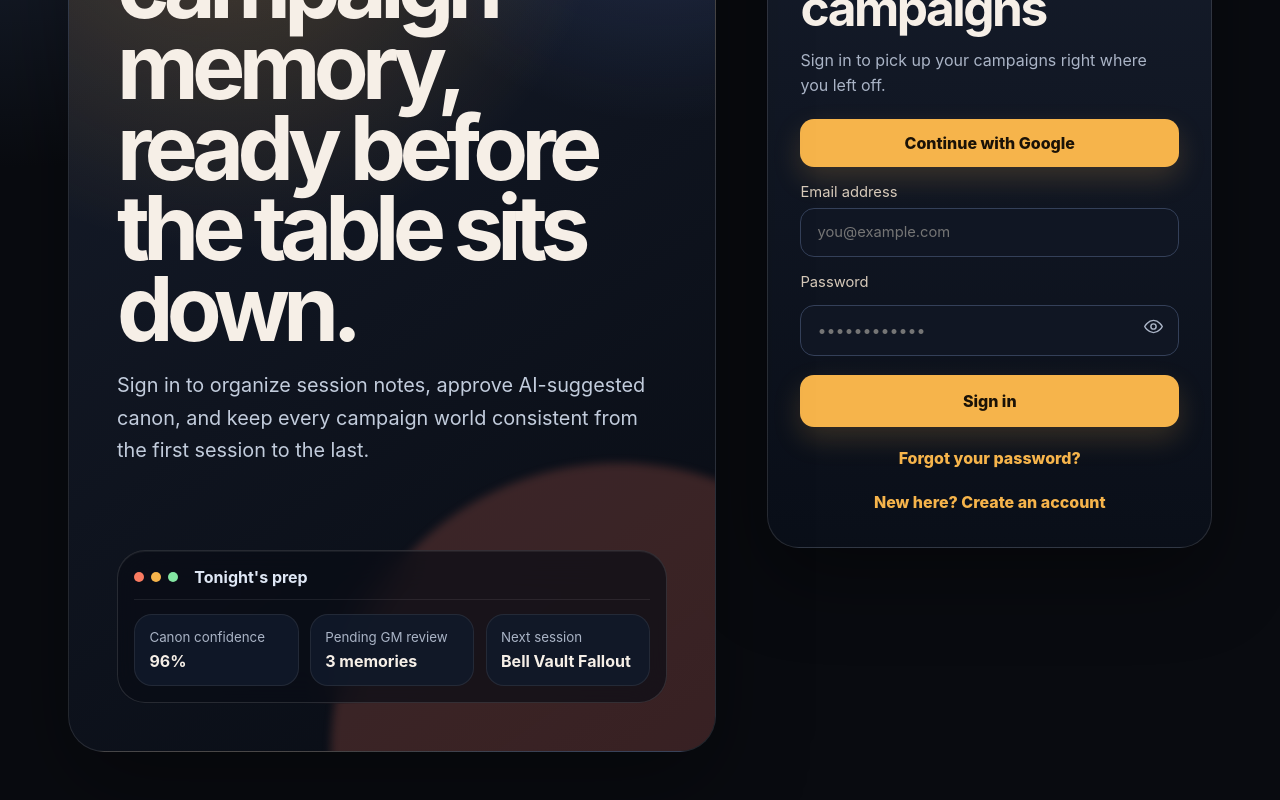
Test: requests managed password recovery without requiring a password
(page scrolled)
Click the button "Forgot your password?" at point(990, 458), box [899, 446, 1081, 471]
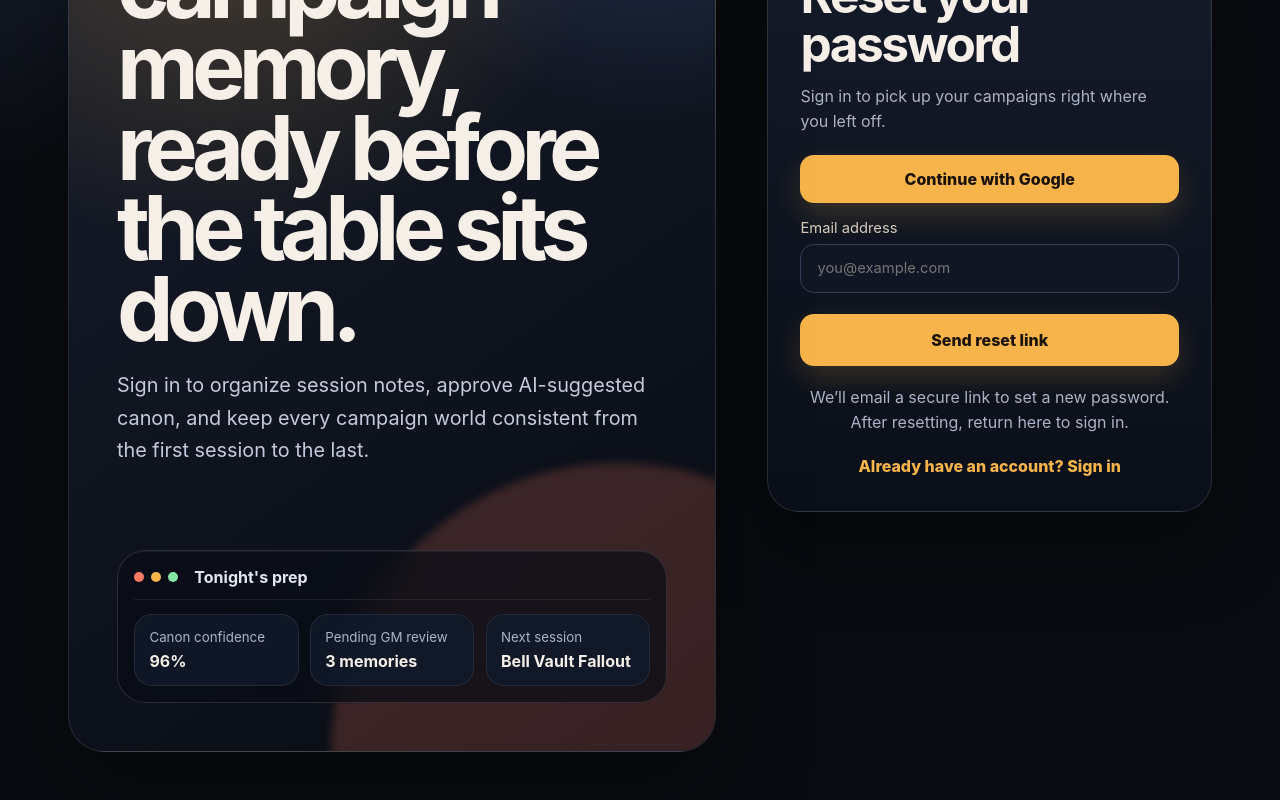
Type "gm@example.com" into the field labelled "Email address" at point(990, 268), box [800, 244, 1179, 293]
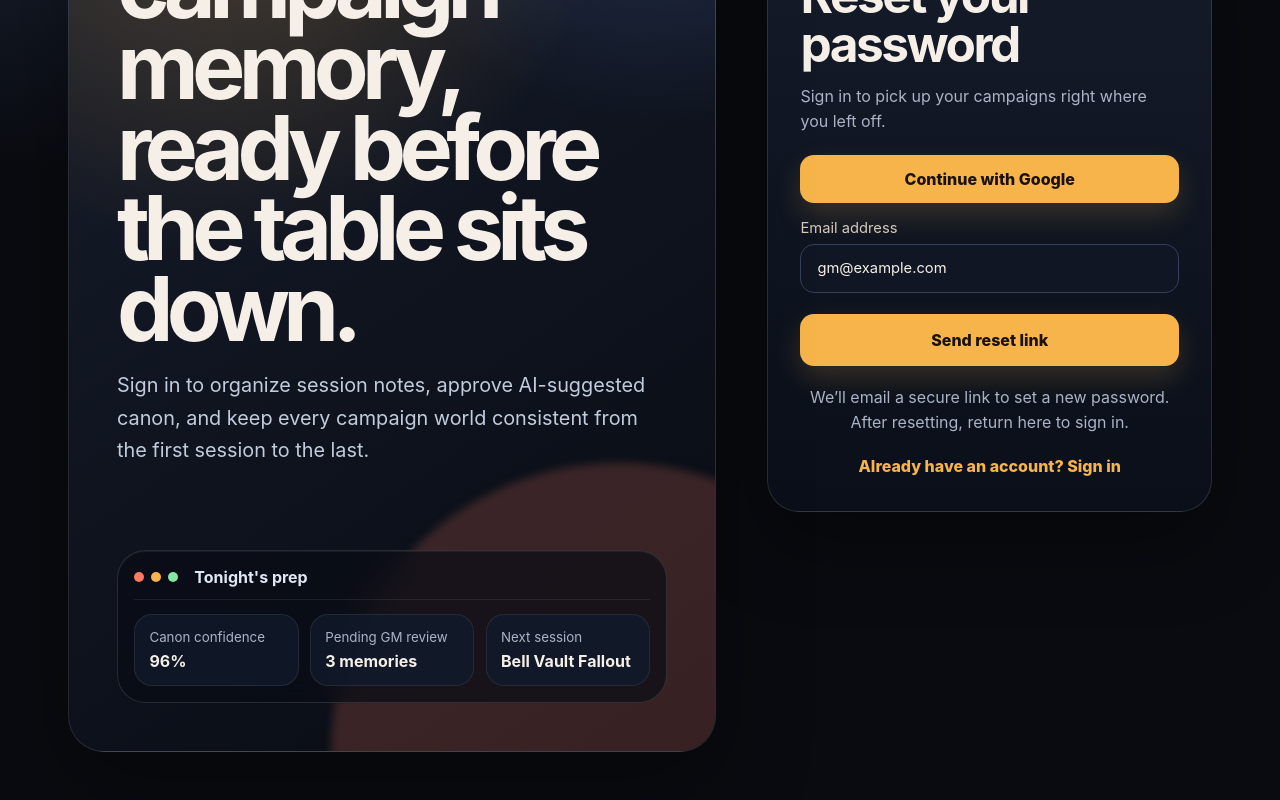
Click the button "Send reset link" at point(990, 340), box [800, 314, 1179, 366]
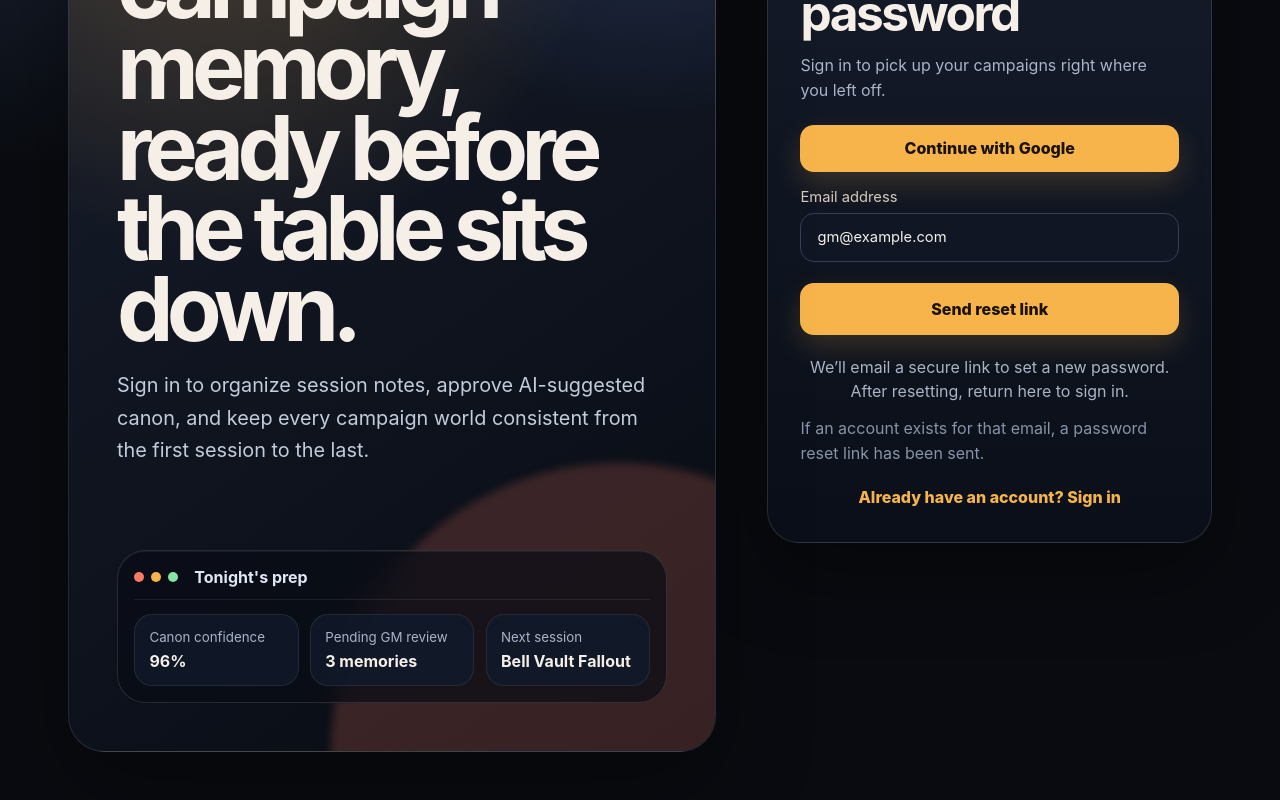
Expected: the text "If an account exists for that email, a password reset link has been sent." is shown, [800, 416, 1179, 466]
